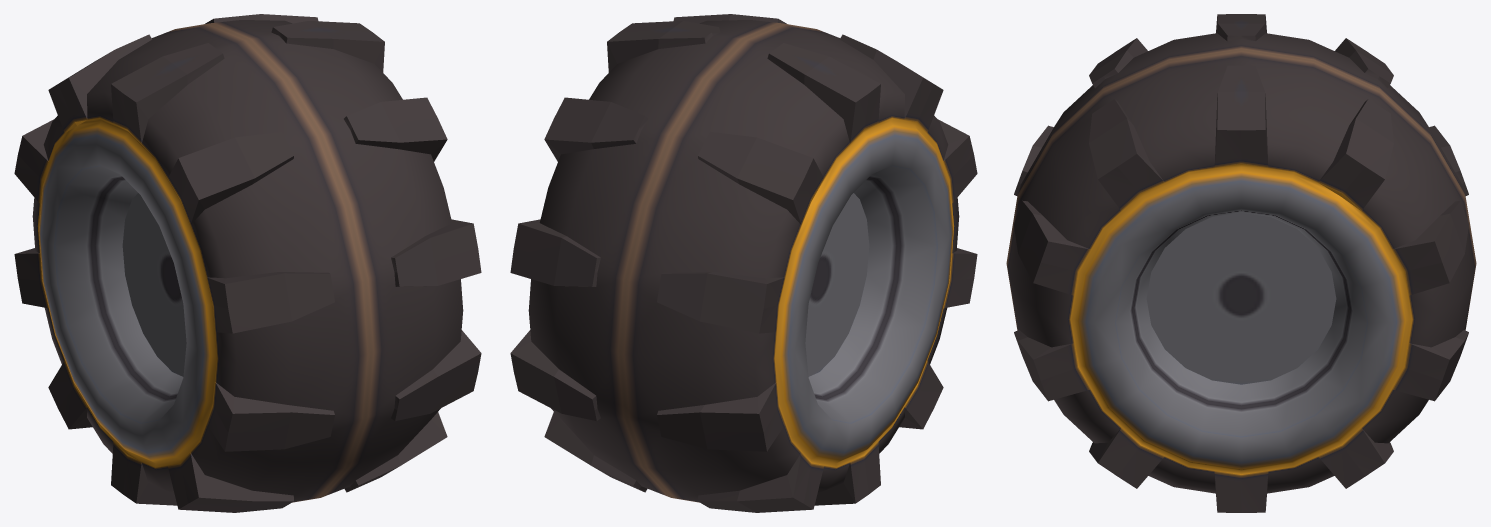
File: Chariot03_chelun.FBX
3 views of the same model, side by side, from view 1: azimuth 30°, elevation 25°; view 2: azimuth 150°, elevation 25°; view 3: azimuth 270°, elevation 25° (orthographic). The views are drawn at different scales.
Parts seen in each view (by area): view 1: Chariot03_chelun; view 2: Chariot03_chelun; view 3: Chariot03_chelun.
Boxes of the visible parts, box(x1,y1,x2,y2) form: Chariot03_chelun: box(14, 14, 481, 512); Chariot03_chelun: box(510, 14, 977, 512); Chariot03_chelun: box(1006, 14, 1476, 512).
Bounding box in the file's own units: 23.29 × 39.05 × 38.91.
